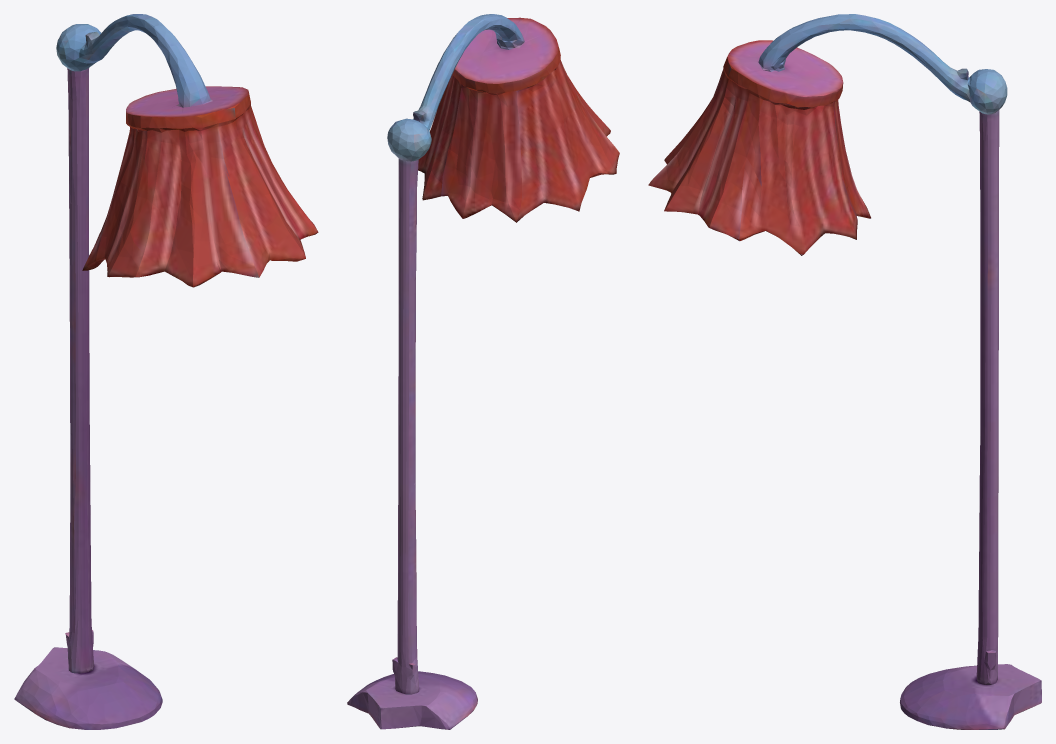
The picture shows the model from 3 angles, left to right: view 1: azimuth 30°, elevation 25°; view 2: azimuth 150°, elevation 25°; view 3: azimuth 270°, elevation 25°; orthographic projection. The views are drawn at different scales.
Parts seen in each view (by area): view 1: world; view 2: world; view 3: world.
Boxes of the visible parts, x1,y1,x2,y2 form: world: (14, 14, 318, 729); world: (347, 14, 619, 729); world: (648, 14, 1041, 729).
Bounding box in the file's own units: 0.2078 × 0.6951 × 0.3617.
1 material, 1 textured.
